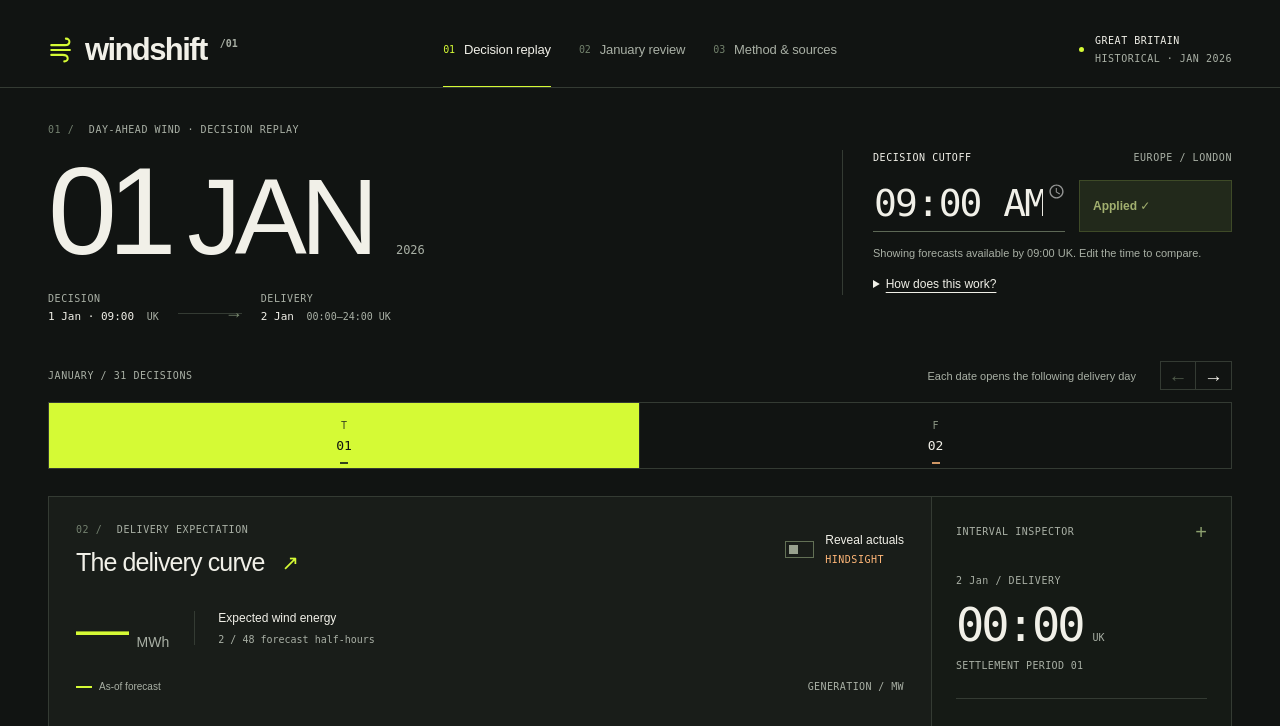
Scenario: decision replay › applies cutoff edits only on submit and exports the applied cutoff
This screenshot has width=1280, height=726.
Expected: the heading "The delivery curve ↗" is shown, [76,549,298,577]
Expected: the button "Applied ✓" is disabled, [1079,180,1232,232]
Replace the text in the time field named "Decision cutoff time" with "08:30" at x=969, y=206, box [873,180,1065,232]
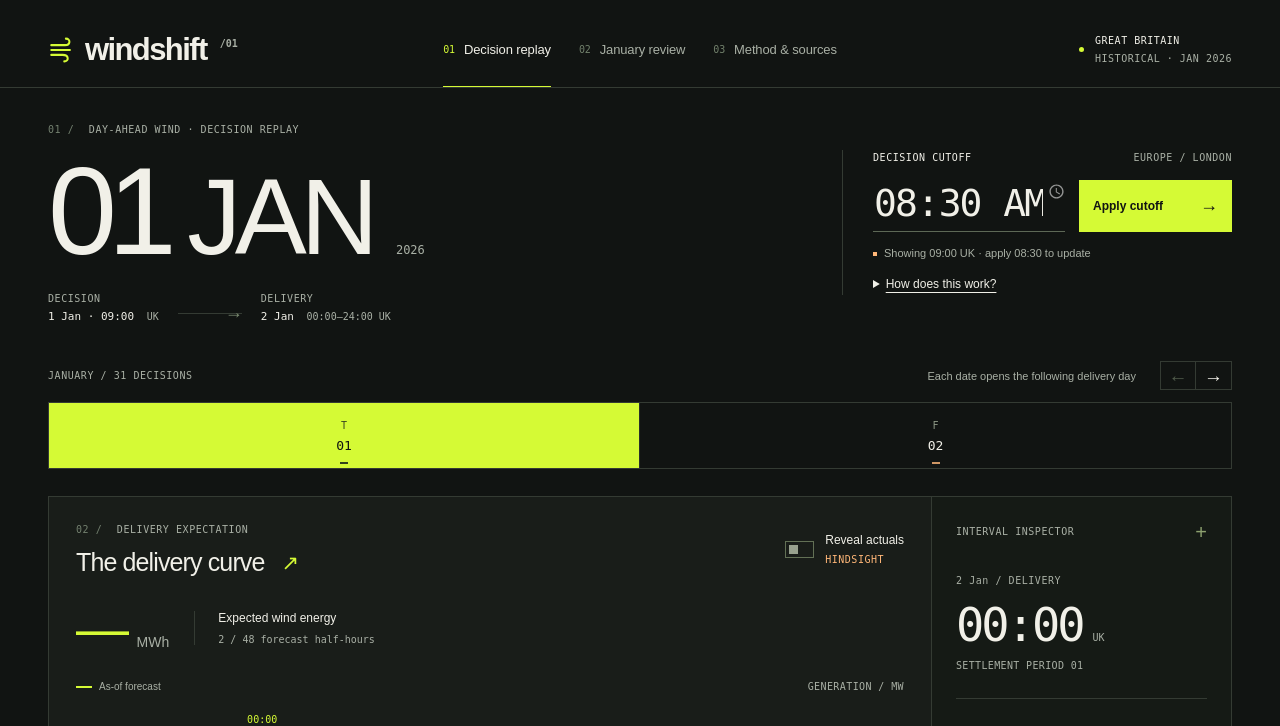
Click the button "Apply cutoff →".
click(1156, 206)  # box [1079,180,1232,232]
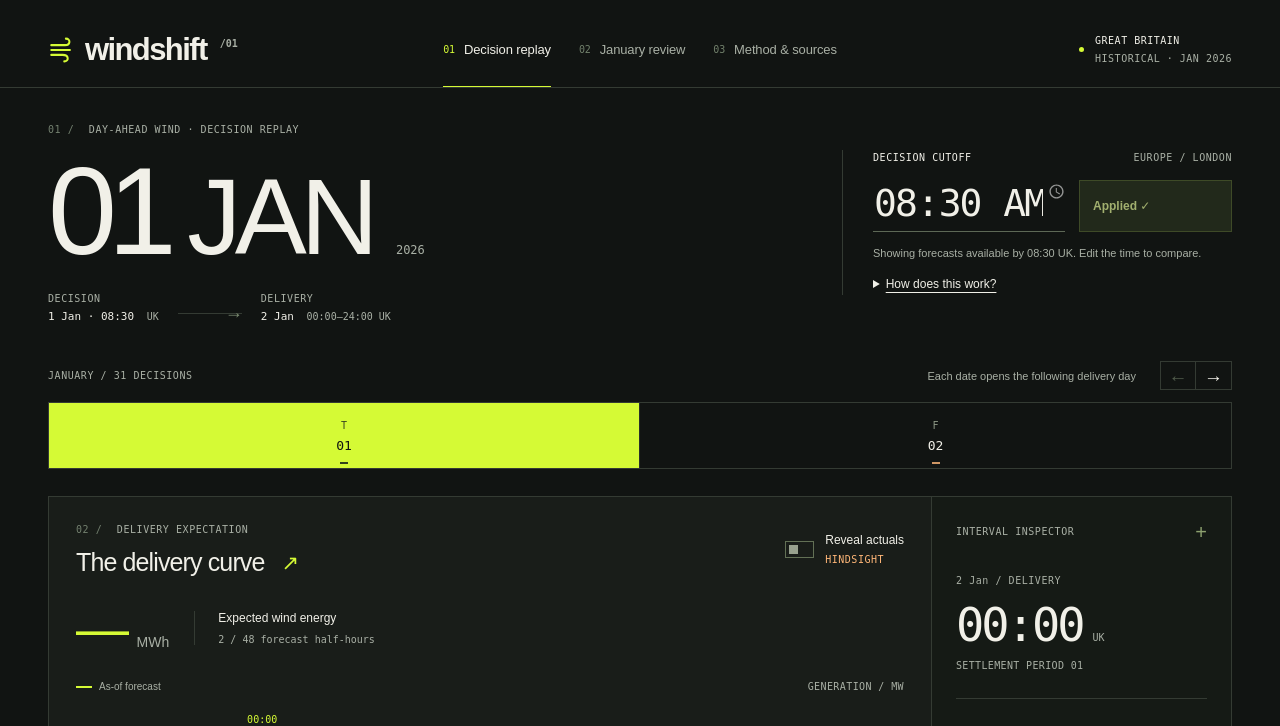
Expected: the heading "The delivery curve ↗" is shown, [76,549,298,577]
Expected: the text "Showing forecasts available by 08:30 UK. Edit the time to compare." is shown, [873,244,1232,262]
